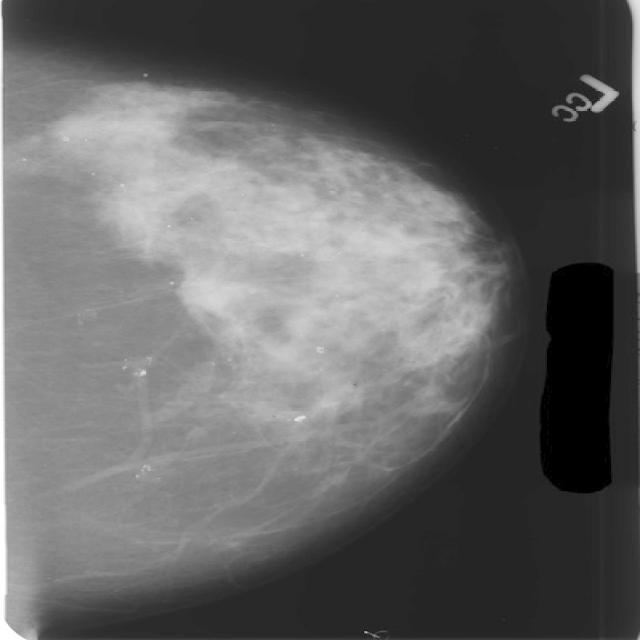tumour: (175, 269, 253, 309)
